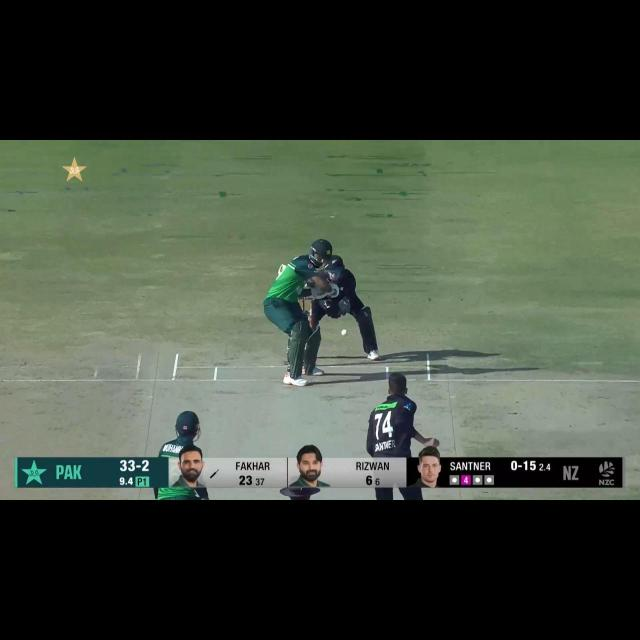toe: (272, 264, 290, 278)
